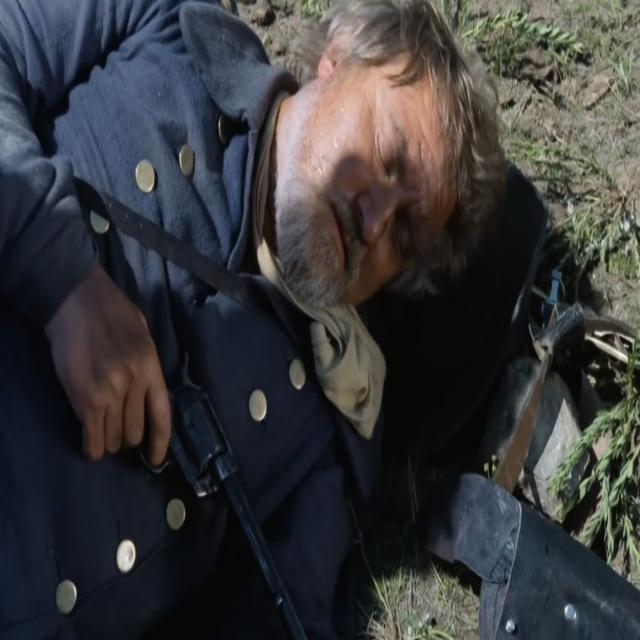gun-knife-thesis - v11 Yolov5 augmented: (71, 305, 309, 639)
